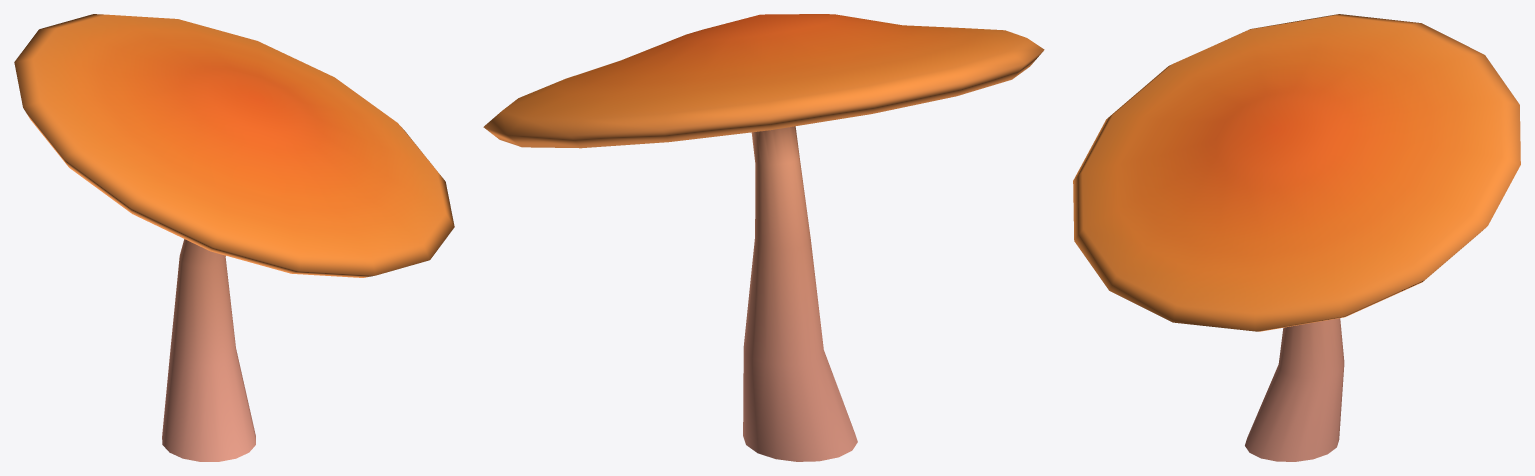
The model's file is mushroom_01.fbx.
3 views of the same model, side by side, from view 1: azimuth 30°, elevation 25°; view 2: azimuth 150°, elevation 25°; view 3: azimuth 270°, elevation 25° (orthographic). The views are drawn at different scales.
Visible parts, largest first — view 1: mushroom; view 2: mushroom; view 3: mushroom.
Part boxes in pixels (left/top/right/bottom): mushroom: left=14, top=14, right=454, bottom=461; mushroom: left=483, top=14, right=1044, bottom=461; mushroom: left=1073, top=14, right=1520, bottom=461.
Bounding box in the file's own units: 85.59 × 77.48 × 86.53.
